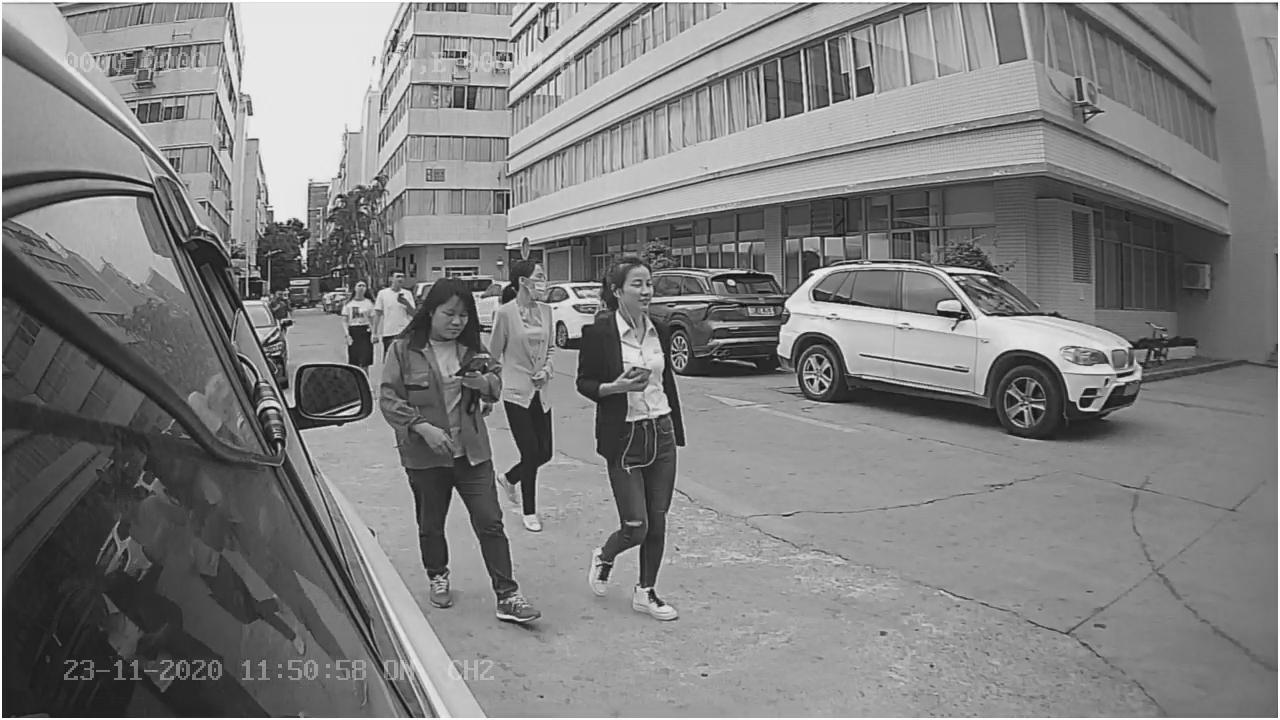person: (573, 257, 698, 622), (377, 277, 531, 456)
